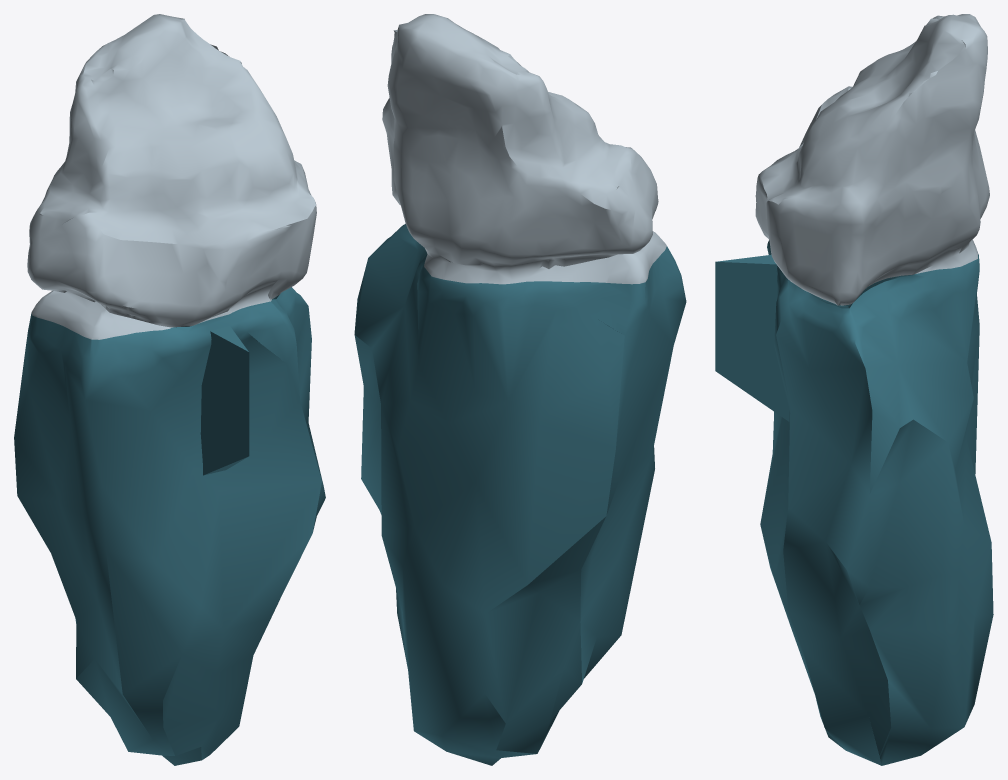
Rendered from iceberg_wedge.glb.
3 views of the same model, side by side, from view 1: azimuth 30°, elevation 25°; view 2: azimuth 150°, elevation 25°; view 3: azimuth 270°, elevation 25° (orthographic). The views are drawn at different scales.
Parts seen in each view (by area): view 1: iceberg_wedge; view 2: iceberg_wedge; view 3: iceberg_wedge.
Part boxes in pixels (left/top/right/bottom): iceberg_wedge: left=14, top=14, right=325, bottom=765; iceberg_wedge: left=354, top=14, right=686, bottom=765; iceberg_wedge: left=715, top=14, right=993, bottom=765.
Bounding box in the file's own units: 12.6 × 31 × 10.36.
